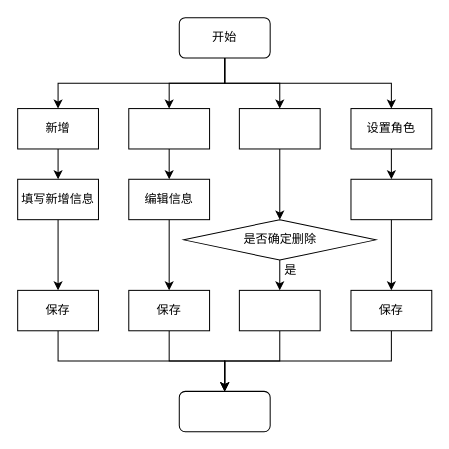
The diagram is 449 pixels wide and 449 high, and some of its shapes have lost their labels. The centre of each missing label's shape, as x and y in pixels:
"删除" goes at point (279, 128).
"删除成功" goes at point (279, 310).
"勾选角色数据" goes at point (391, 199).
"结束" goes at point (224, 411).
"编辑" goes at point (169, 128).
